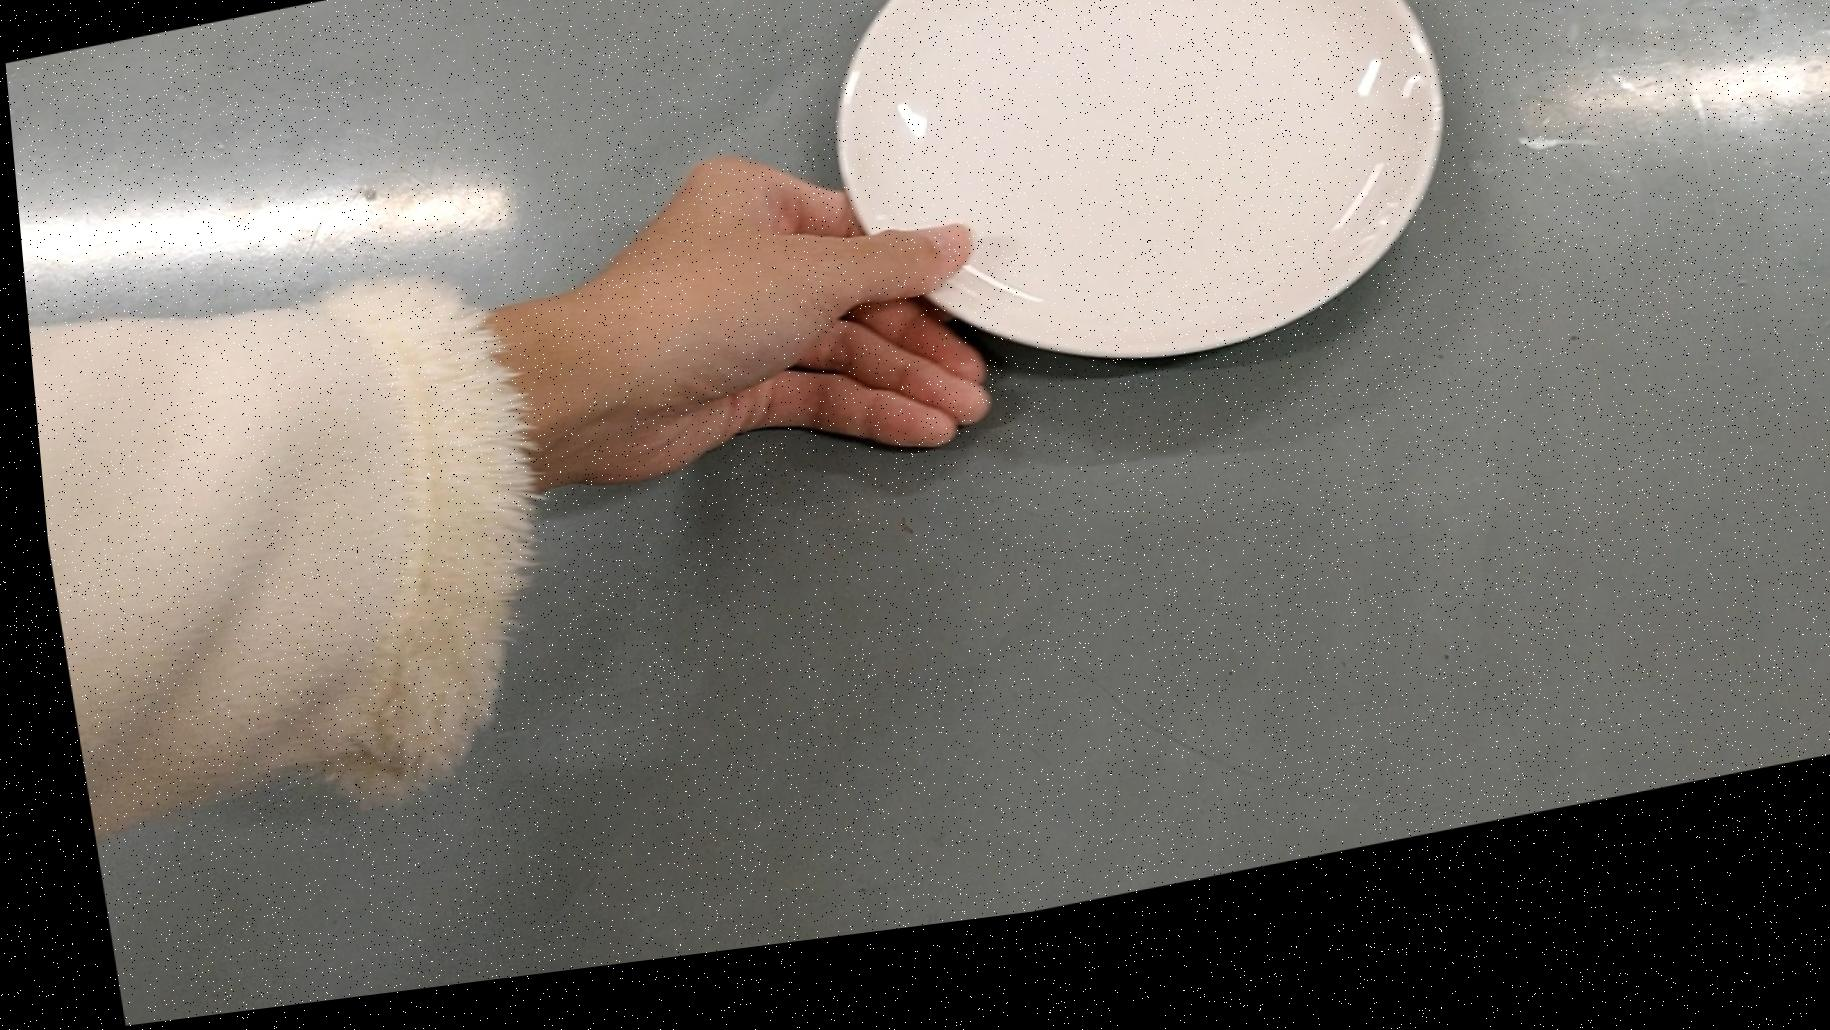plate: (793, 0, 1469, 448)
